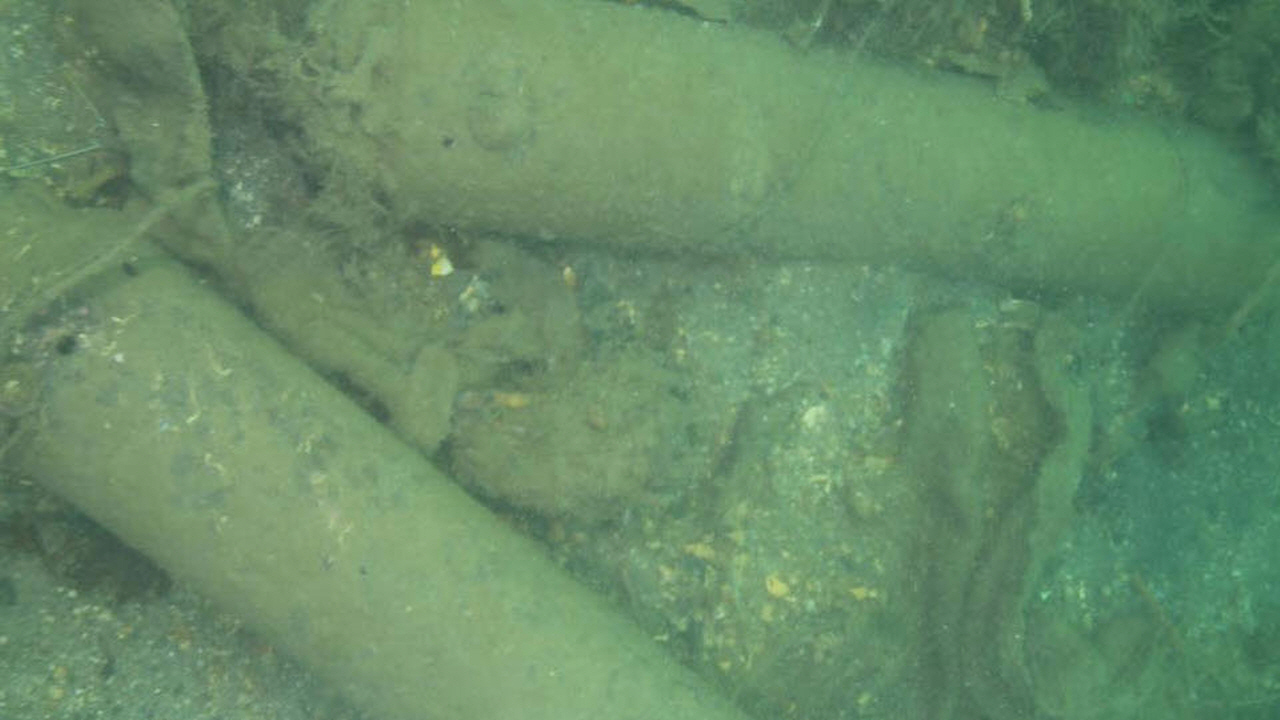eel fish trap: (0, 190, 754, 720), (322, 0, 1275, 283)
